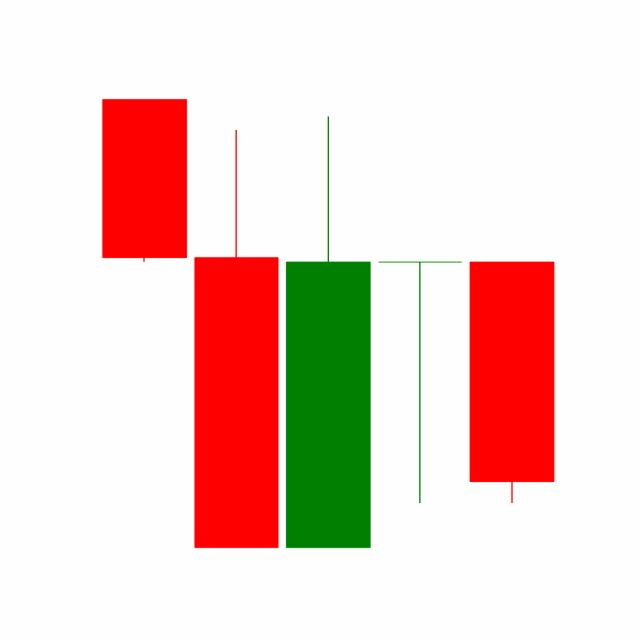Marubozu: (464, 258, 558, 506)
